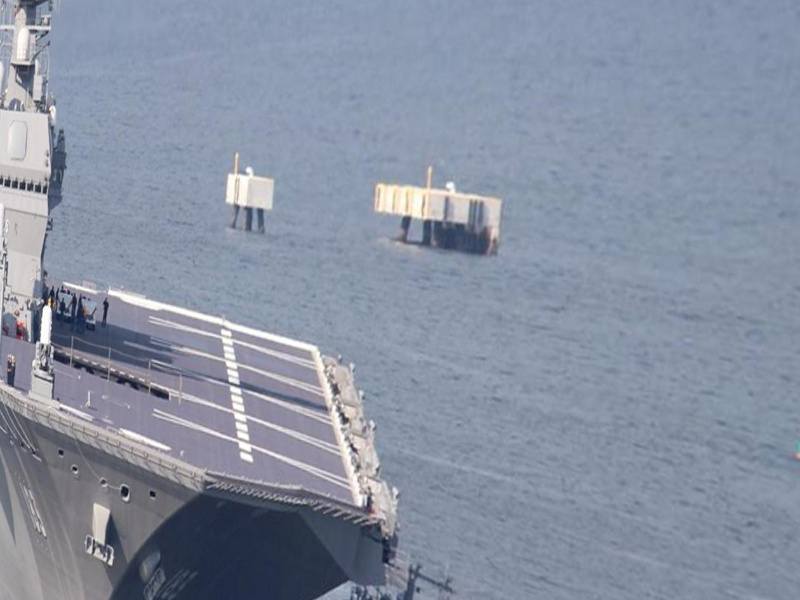carrier: (1, 1, 369, 589)
